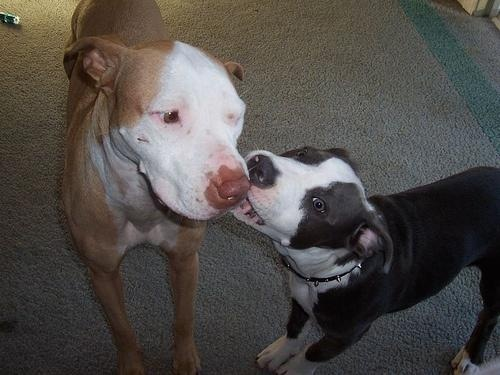dog: (63, 2, 252, 375), (231, 145, 500, 374)
